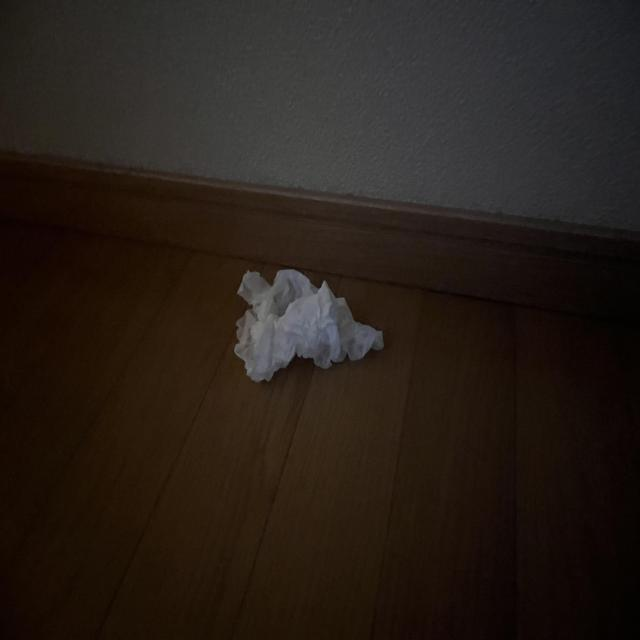Paper: (213, 243, 402, 383)
